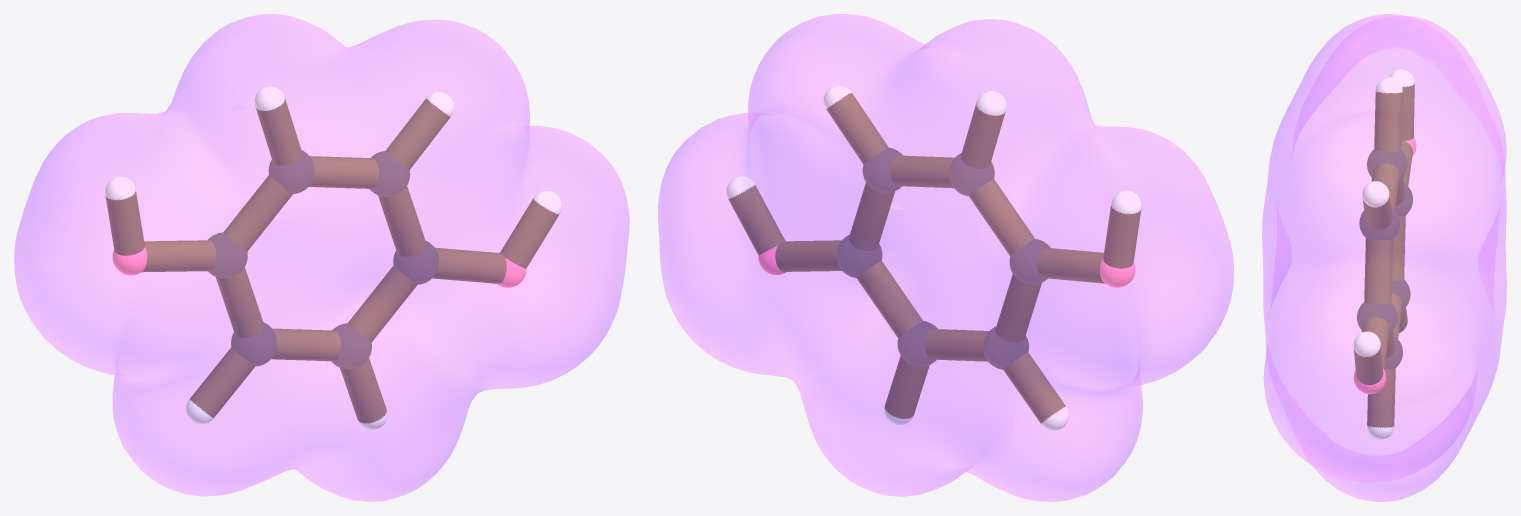
File: DFTPageLandingHYQAnimation.glb
The picture shows the model from 3 angles, left to right: view 1: azimuth 30°, elevation 25°; view 2: azimuth 150°, elevation 25°; view 3: azimuth 270°, elevation 25°; orthographic projection. The views are drawn at different scales.
Parts seen in each view (by area): view 1: ElectronDensity, Bonds, CarbonAtom, HydrogenAtom, OxygenAtom; view 2: ElectronDensity, Bonds, CarbonAtom, HydrogenAtom, OxygenAtom; view 3: ElectronDensity, Bonds, CarbonAtom, HydrogenAtom, OxygenAtom.
Boxes of the visible parts, left/top/right/bottom form: ElectronDensity: left=14, top=14, right=629, bottom=501; Bonds: left=105, top=98, right=558, bottom=423; CarbonAtom: left=208, top=150, right=438, bottom=369; HydrogenAtom: left=105, top=86, right=561, bottom=429; OxygenAtom: left=112, top=247, right=526, bottom=287; ElectronDensity: left=658, top=14, right=1233, bottom=501; Bonds: left=728, top=93, right=1141, bottom=423; CarbonAtom: left=836, top=147, right=1050, bottom=369; HydrogenAtom: left=726, top=85, right=1141, bottom=430; OxygenAtom: left=758, top=241, right=1135, bottom=287; ElectronDensity: left=1262, top=14, right=1506, bottom=501; Bonds: left=1353, top=84, right=1414, bottom=427; CarbonAtom: left=1357, top=149, right=1412, bottom=369; HydrogenAtom: left=1353, top=69, right=1414, bottom=439; OxygenAtom: left=1353, top=138, right=1416, bottom=394.
Bounding box in the file's own units: 8.5 × 7 × 3.6.
